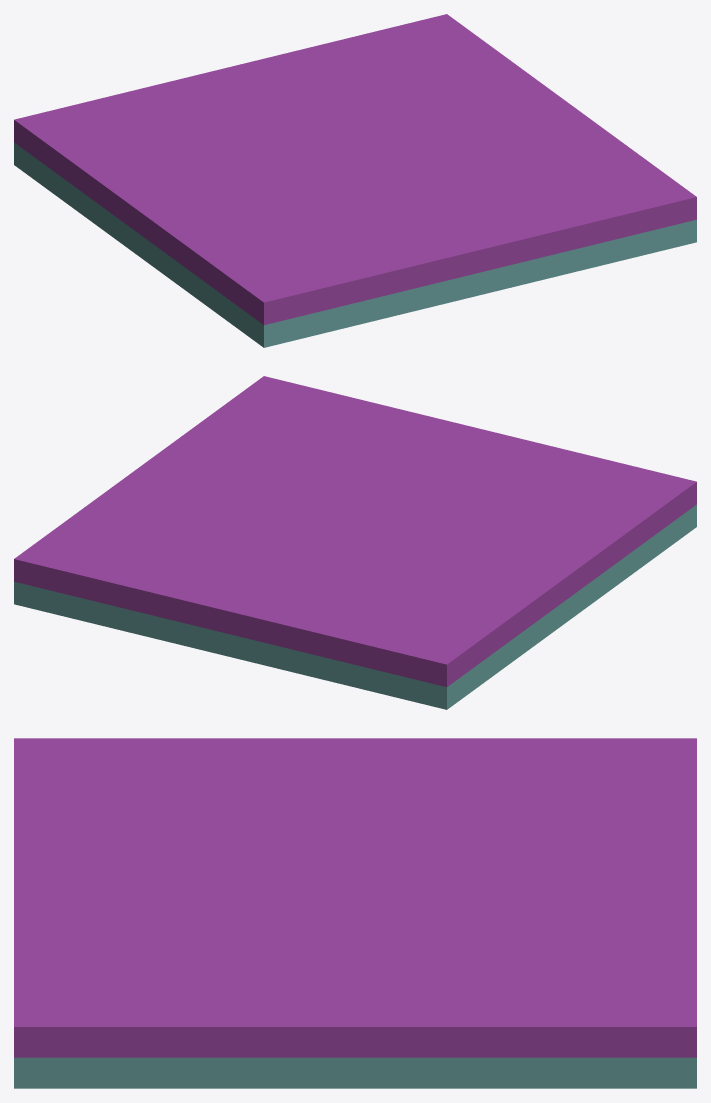
Rendered from Floor&Ceiling Lit.fbx.
The picture shows the model from 3 angles, top to bottom: view 1: azimuth 30°, elevation 25°; view 2: azimuth 150°, elevation 25°; view 3: azimuth 270°, elevation 25°; orthographic projection. The views are drawn at different scales.
Parts seen in each view (by area): view 1: floor_ceiling_lights; view 2: floor_ceiling_lights; view 3: floor_ceiling_lights.
Part boxes in pixels (bbox=[...]): floor_ceiling_lights: bbox=[14, 14, 696, 347]; floor_ceiling_lights: bbox=[14, 376, 696, 709]; floor_ceiling_lights: bbox=[14, 738, 696, 1088].
Bounding box in the file's own units: 10 × 1 × 10.
